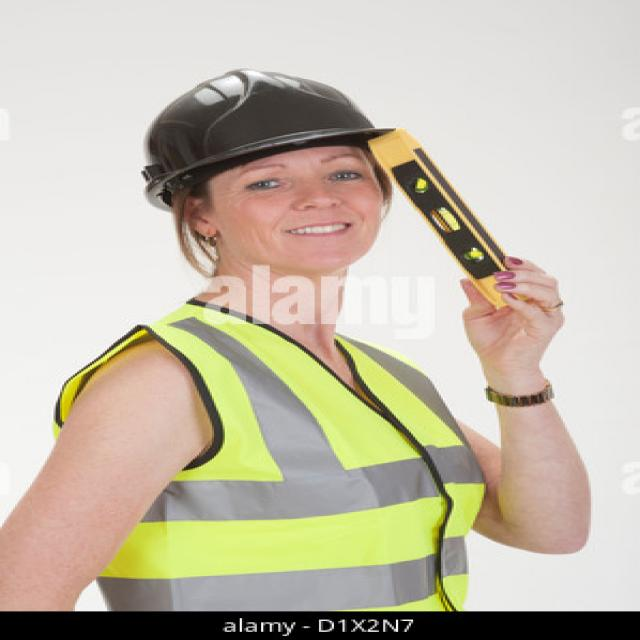Reflective-Jacket: (45, 303, 492, 612)
Safety-Helmet: (126, 62, 422, 186)
